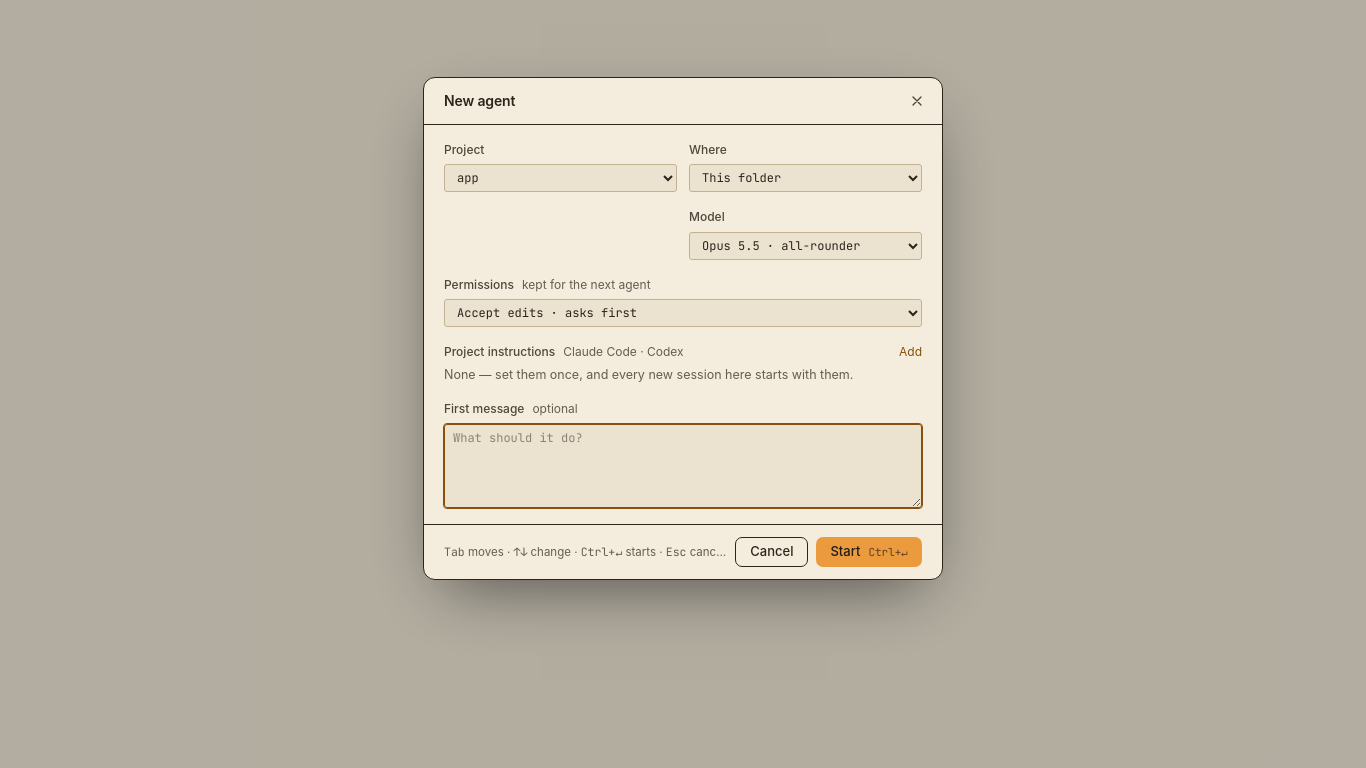
it: the permission mode a new agent starts in › keeps nothing when the start fails
Select "Plan · changes nothing" in the dropdown labelled "Permissions kept for the next agent" at coordinates (683, 313), box [444, 299, 922, 327]
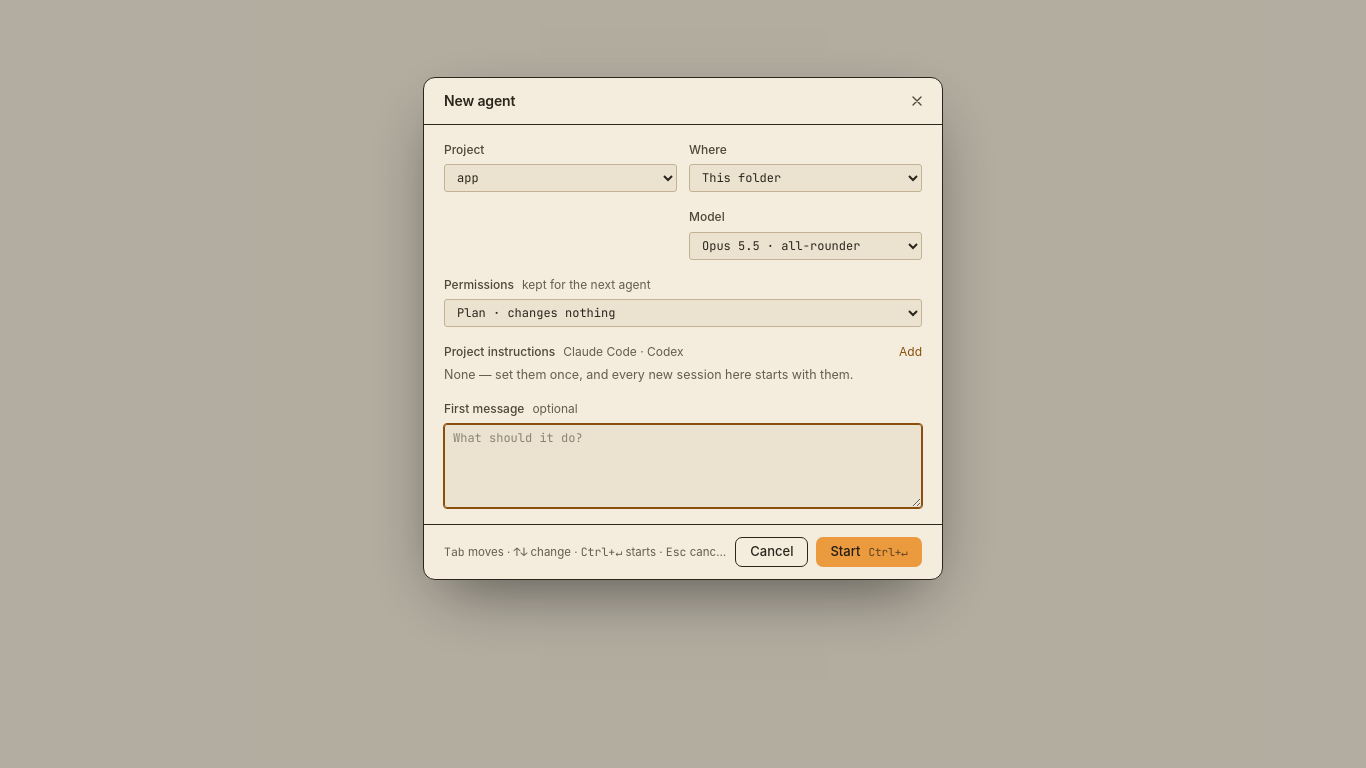
Click the button "Start" at coordinates (869, 552), box [816, 537, 922, 567]
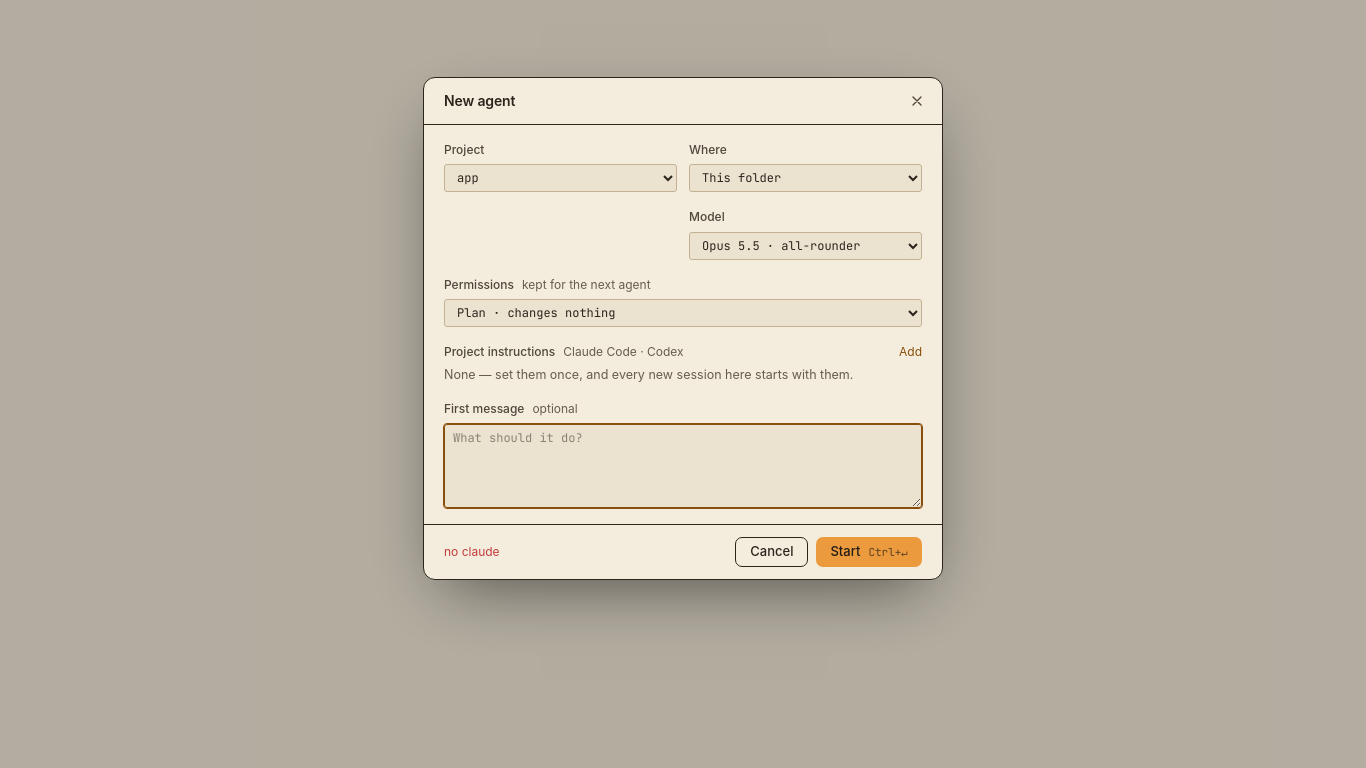
Check: the message "no claude" is shown, box [444, 543, 500, 561]
